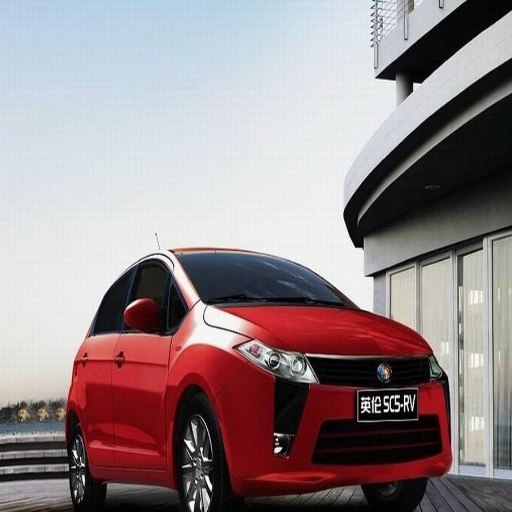front_bumper: (224, 354, 450, 505)
front_right_door: (112, 256, 176, 464)
front_right_light: (236, 339, 313, 380)
